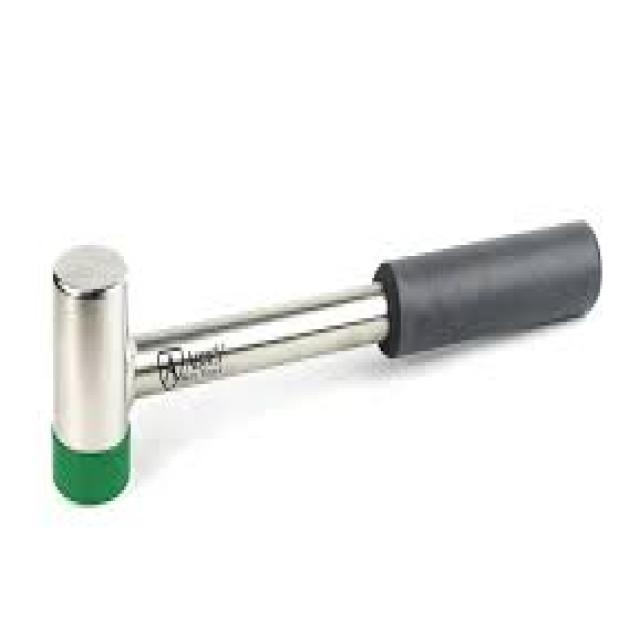Palu: (48, 203, 601, 528)
